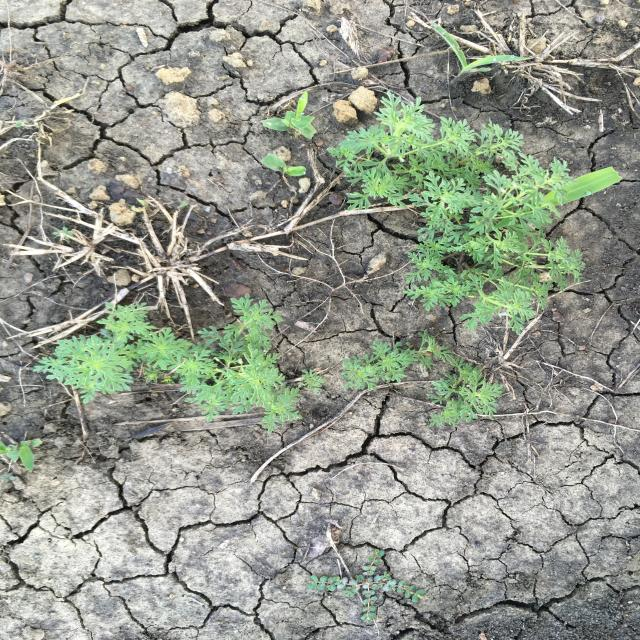Ragweed: (325, 89, 588, 337), (30, 292, 306, 436), (339, 328, 508, 431)
SpottedSpurge: (302, 547, 428, 624)
